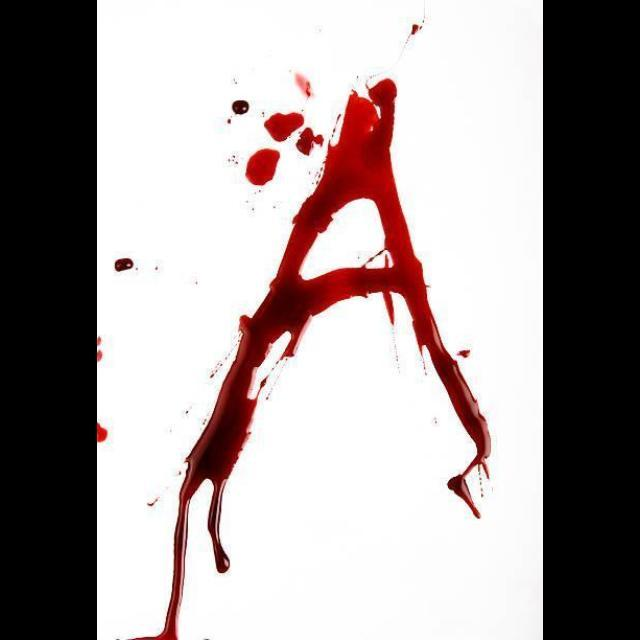blood: (144, 78, 491, 639), (264, 112, 303, 141), (248, 150, 280, 185), (297, 128, 324, 154), (296, 72, 315, 98), (114, 258, 133, 271), (233, 100, 249, 113)
